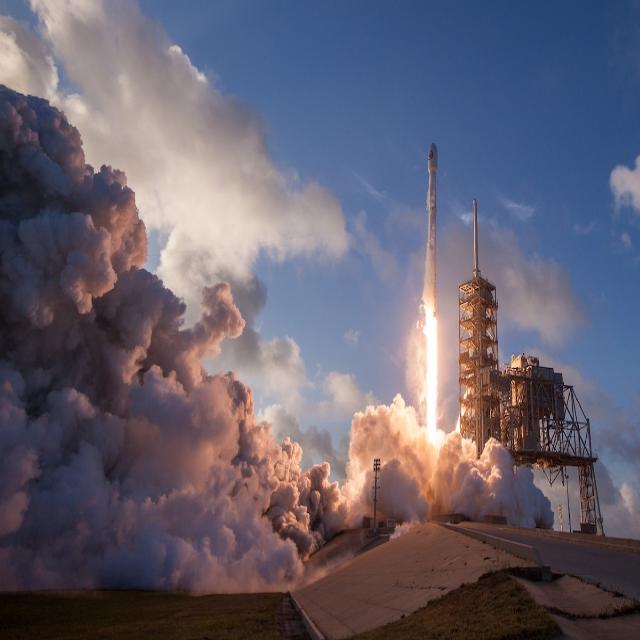large_debris: (19, 0, 348, 288), (589, 150, 640, 232)
medium_debris: (422, 291, 440, 456)
rocket: (418, 127, 448, 287)
